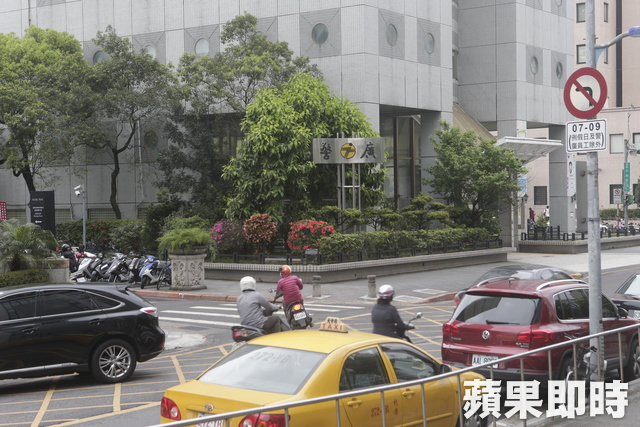No_left_turn: (563, 67, 608, 119)
